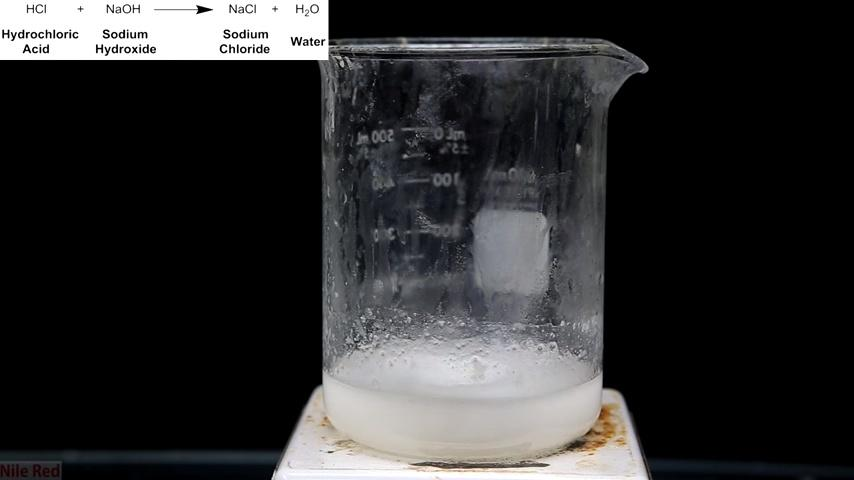Beaker: (300, 36, 642, 462)
